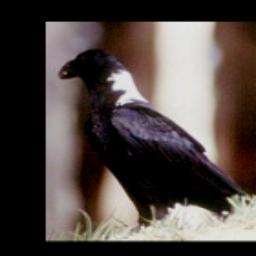Crow: (56, 41, 256, 232)
